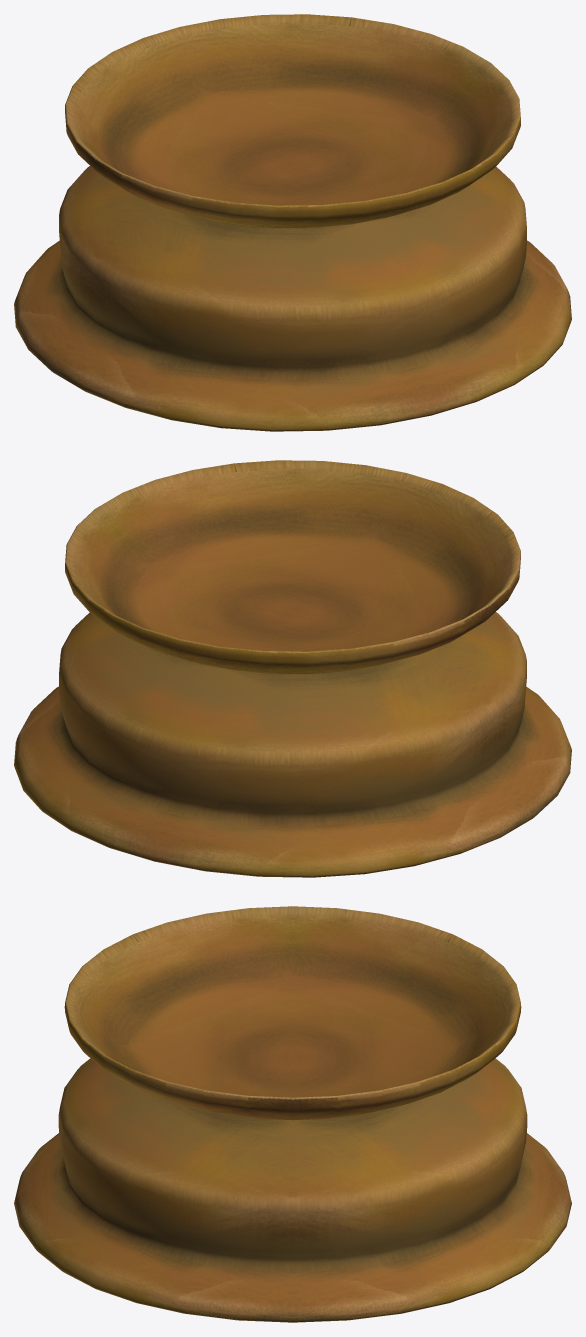
File: candleHOlder.fbx
The picture shows the model from 3 angles, top to bottom: view 1: azimuth 30°, elevation 25°; view 2: azimuth 150°, elevation 25°; view 3: azimuth 270°, elevation 25°; orthographic projection.
Visible parts, largest first — view 1: candleHOlder; view 2: candleHOlder; view 3: candleHOlder.
Part boxes in pixels (box(x1,y1,x2,y2)): candleHOlder: box(14, 14, 571, 431); candleHOlder: box(14, 460, 571, 877); candleHOlder: box(14, 906, 571, 1322).
Bounding box in the file's own units: 221 × 89.73 × 221.
1 material, 1 textured.
